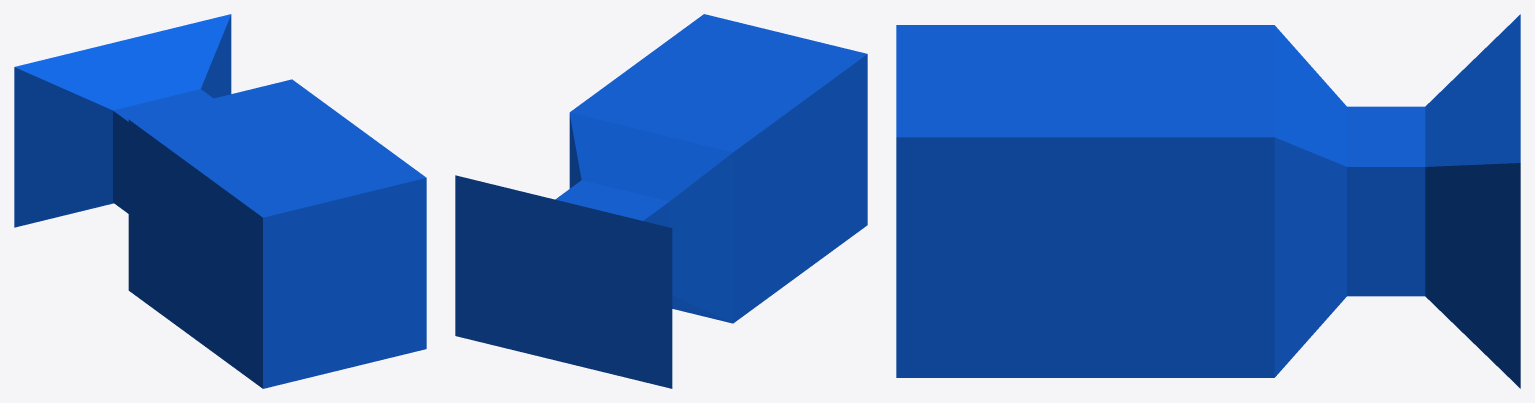
File: sm_edtior_util_camera.glb
3 renders of one model, left to right at view 1: azimuth 30°, elevation 25°; view 2: azimuth 150°, elevation 25°; view 3: azimuth 270°, elevation 25°, orthographic. The views are drawn at different scales.
Parts seen in each view (by area): view 1: Cube; view 2: Cube; view 3: Cube.
Boxes of the visible parts, <box> form: Cube: <box>14,14,426,388</box>; Cube: <box>455,14,867,388</box>; Cube: <box>896,14,1520,388</box>.
Size of the model in its own units: 0.5927 by 0.4466 by 1.05.
